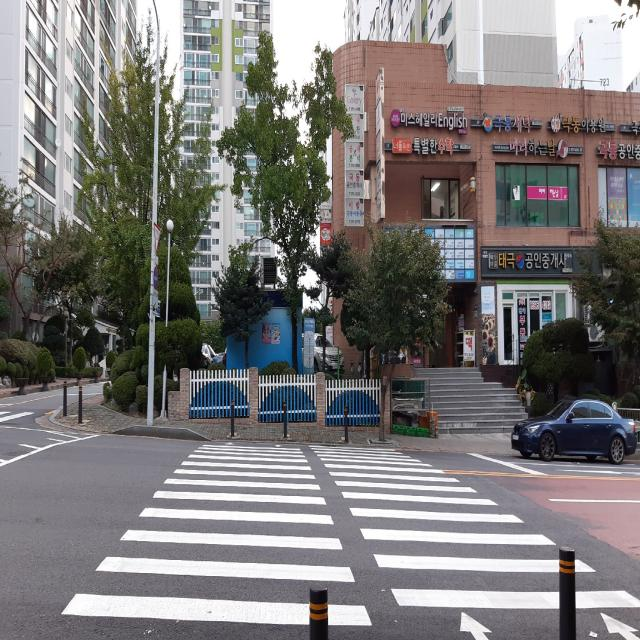횡단보도: (60, 441, 640, 640)
